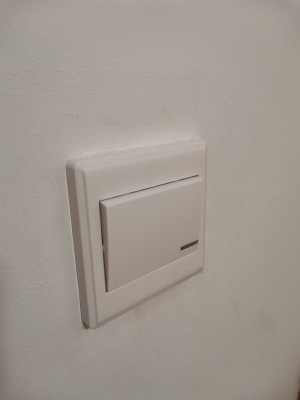switch: (92, 169, 206, 296)
